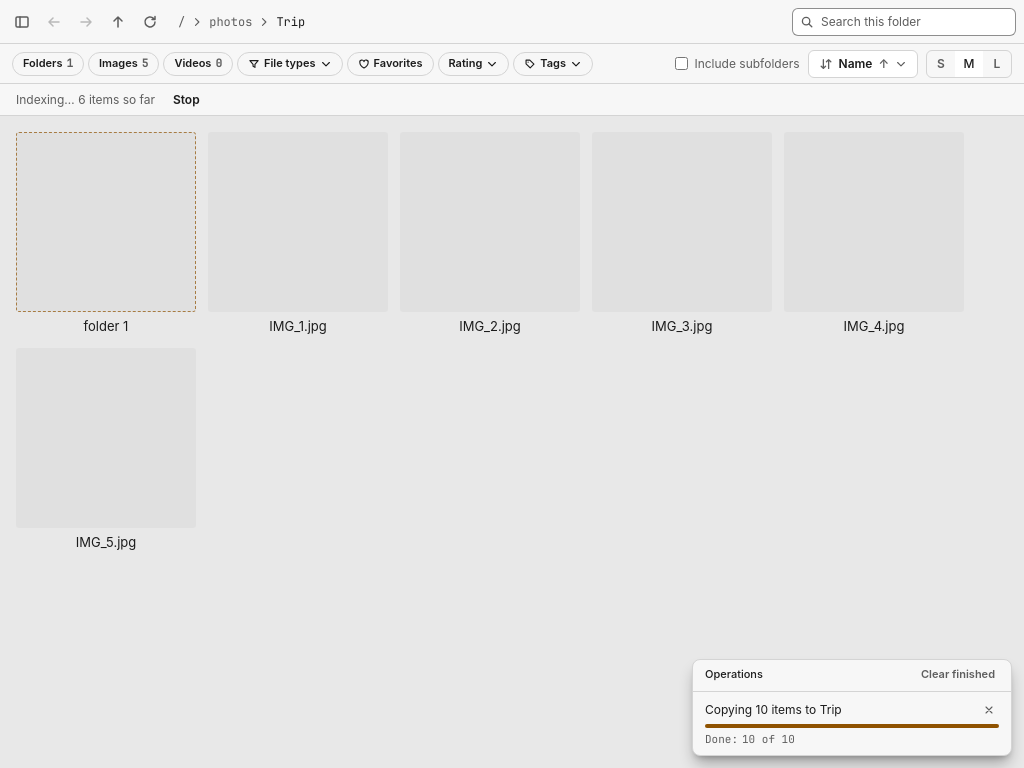
progress panel › can be dismissed once finished
Expected: the text "IMG_2.jpg" is shown, [459, 318, 521, 334]
Click the button named "Dismiss".
click(989, 710)  # box [979, 700, 999, 720]
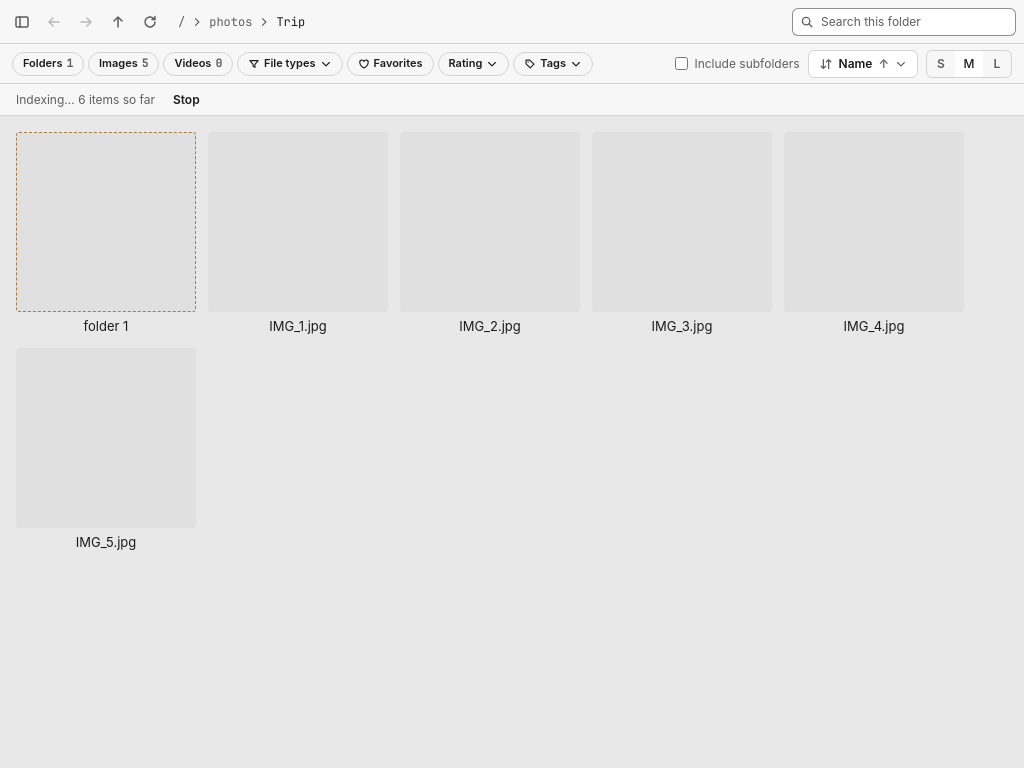
Now the element with test id "jobs-panel" is gone
